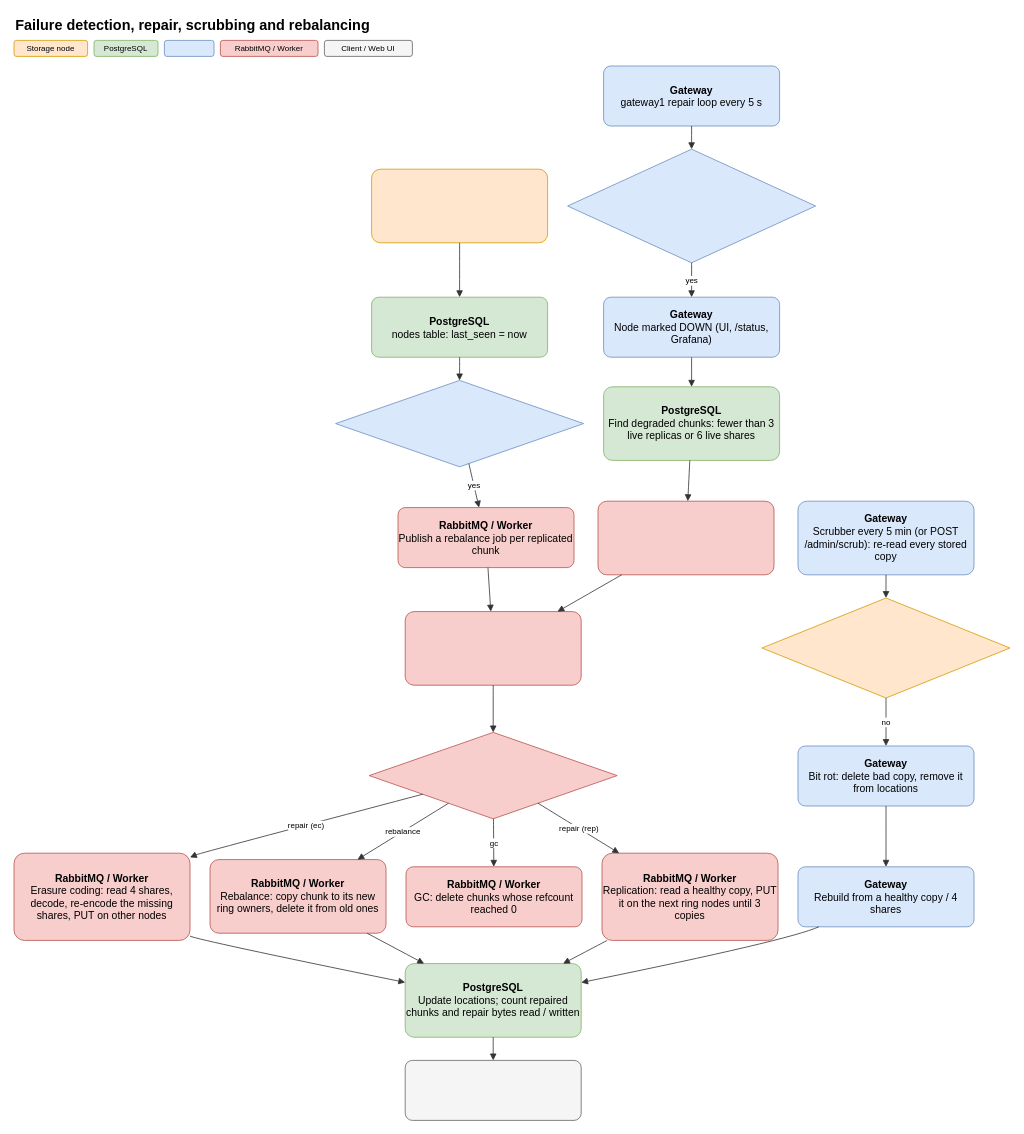
The diagram is 1024 pixels wide and 1134 high, and some of its shapes have lost their labels. Each missing label, with the box of its shape:
Client / Web UI Degraded objects back to 0: (404, 1060, 581, 1120)
Gateway: (164, 40, 214, 56)
Gateway Any node with no heartbeat for 10 s?: (567, 148, 816, 263)
Gateway New node id?: (335, 380, 584, 467)
RabbitMQ / Worker Job type?: (368, 732, 617, 819)
RabbitMQ / Worker Publish one repair job per degraded chunk to queue dfs-jobs: (597, 500, 774, 575)
RabbitMQ / Worker Worker takes a job and reloads the chunk's locations: (404, 611, 581, 685)
Storage node Every 3 s: heartbeat (id, free space, chunk count) via Nginx: (371, 168, 548, 243)
Storage node SHA-256 still matches?: (761, 597, 1010, 698)
